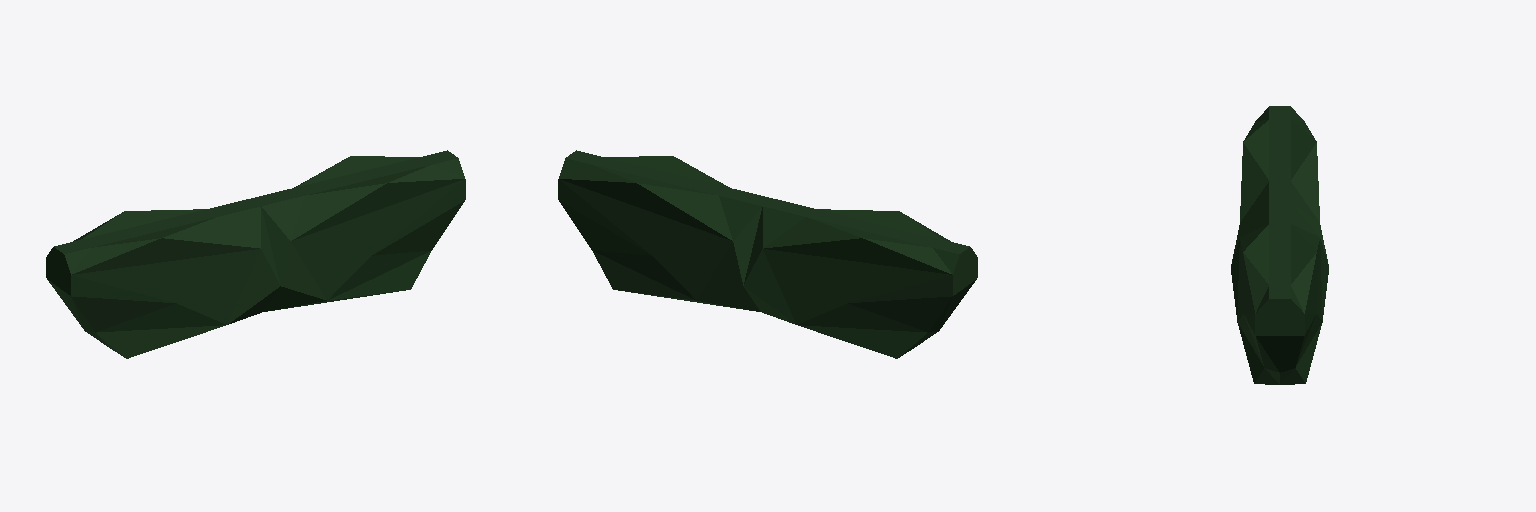
Rendered from boombox.obj.
3 views of the same model, side by side, from view 1: azimuth 30°, elevation 25°; view 2: azimuth 150°, elevation 25°; view 3: azimuth 270°, elevation 25° (orthographic).
Visible parts, largest first — view 1: Boombox; view 2: Boombox; view 3: Boombox.
Boxes of the visible parts, x1=… form: Boombox: x1=46, y1=150, x2=465, y2=358; Boombox: x1=558, y1=150, x2=977, y2=358; Boombox: x1=1231, y1=106, x2=1328, y2=384.
Size of the model in its own units: 2 by 0.5707 by 0.4328.